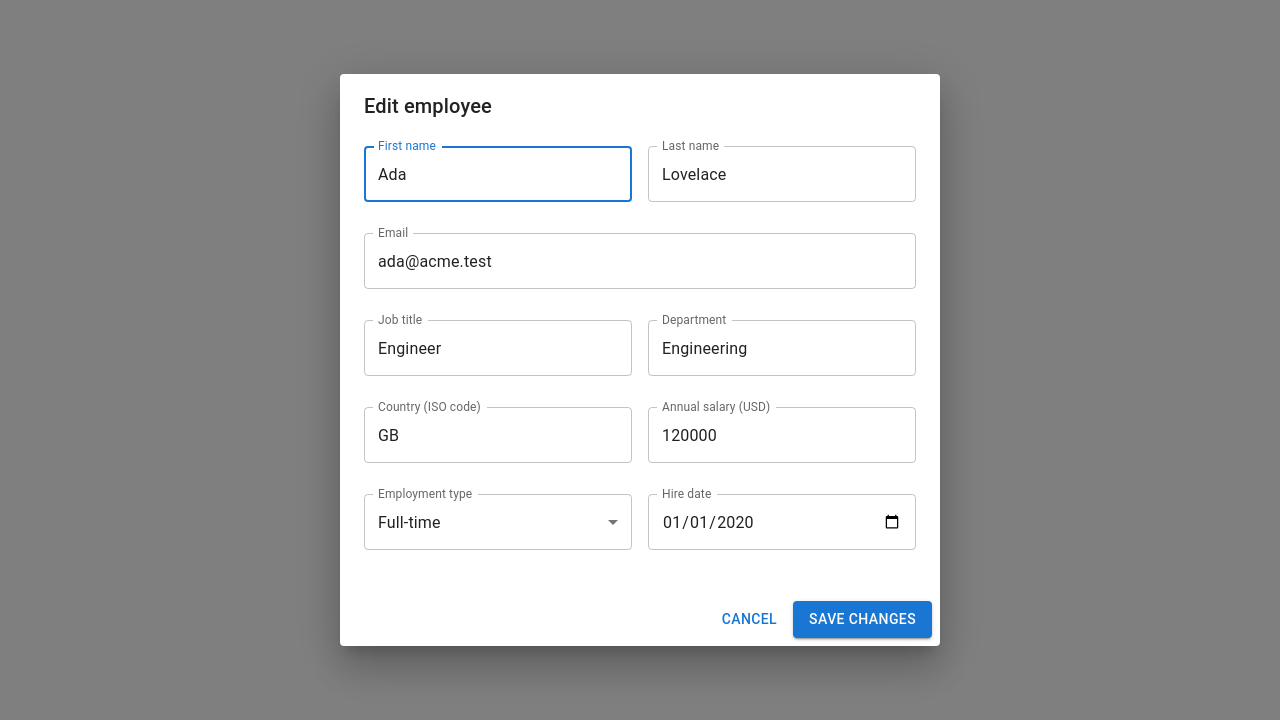
EmployeeFormDialog › maps server-side field errors onto the inputs
The image size is (1280, 720).
Click the button "Save changes".
click(863, 619)  # box [793,601,932,638]
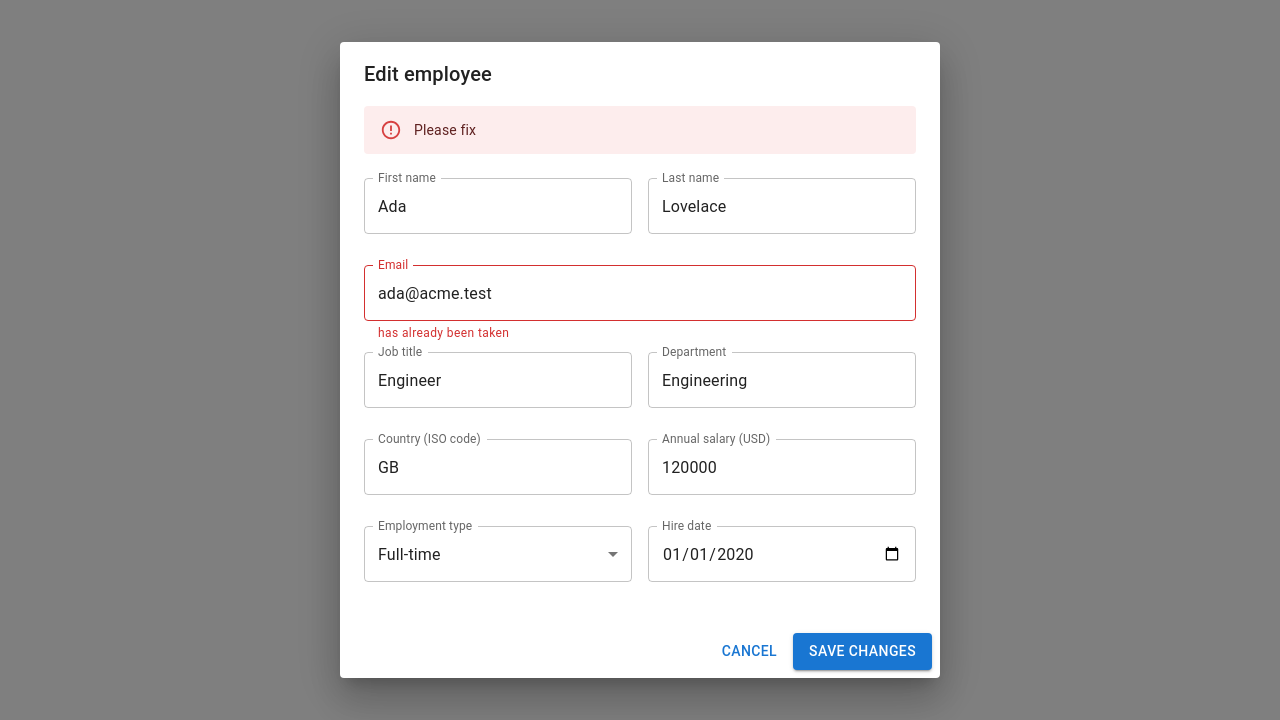
Now the text "has already been taken" is shown, box [378,326,509,340]
